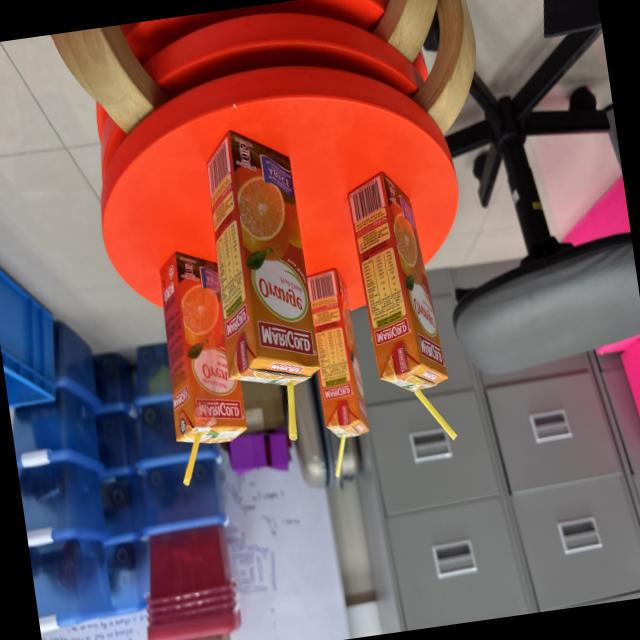drink_carton: (186, 118, 340, 456), (338, 153, 463, 454), (140, 232, 270, 492), (295, 257, 382, 483)
